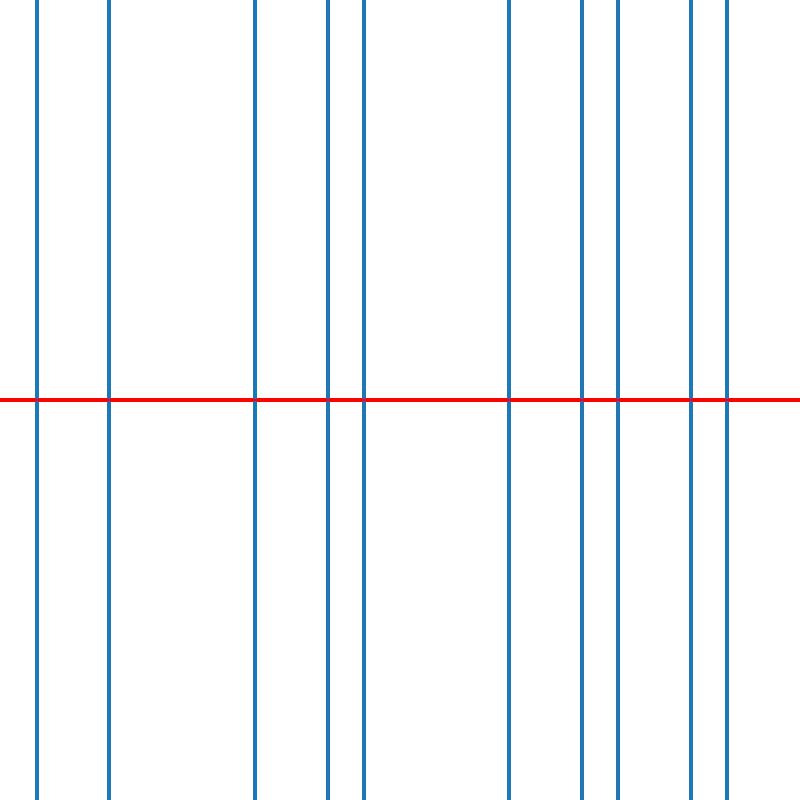root: (250, 396, 258, 404), (32, 396, 40, 404), (505, 396, 512, 404), (723, 396, 730, 404), (360, 396, 367, 404), (614, 396, 621, 404), (323, 396, 330, 404), (105, 396, 112, 404), (578, 396, 585, 404), (687, 396, 694, 404)
